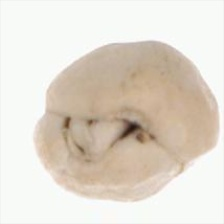L3: (56, 108, 153, 161)
L4: (33, 40, 219, 203)
